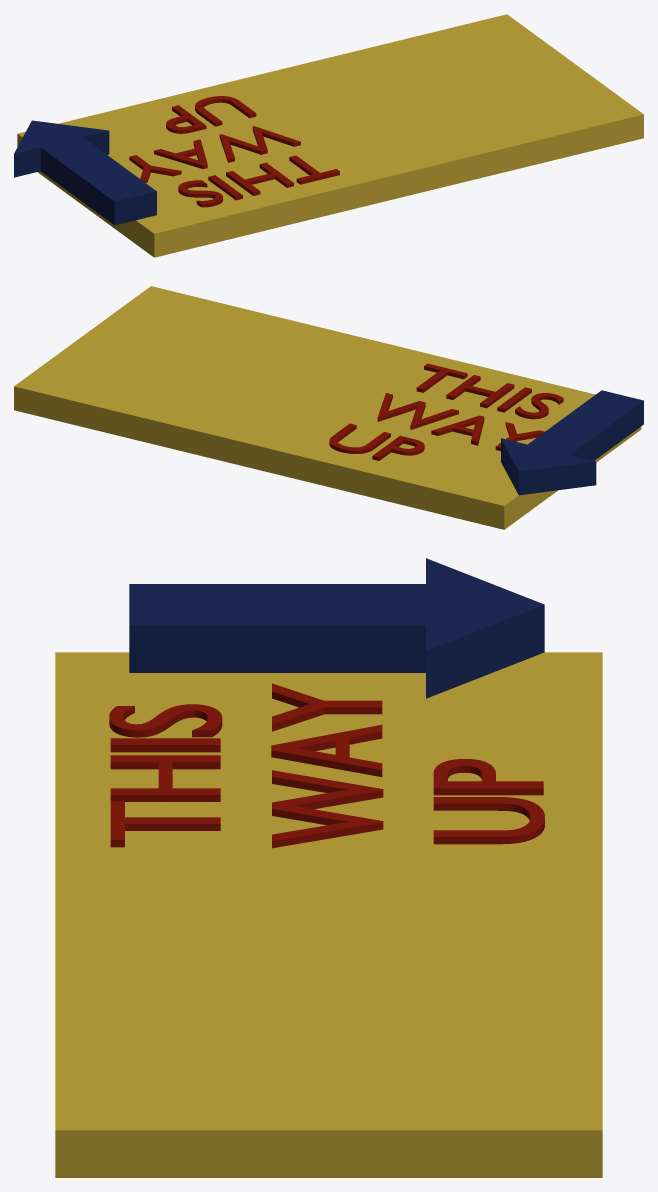
Rendered from rot_end.gltf.
3 renders of one model, top to bottom at view 1: azimuth 30°, elevation 25°; view 2: azimuth 150°, elevation 25°; view 3: azimuth 270°, elevation 25°, orthographic. The views are drawn at different scales.
Parts seen in each view (by area): view 1: rot.end; view 2: rot.end; view 3: rot.end.
Part boxes in pixels (bbox=[...]): rot.end: bbox=[14, 14, 643, 257]; rot.end: bbox=[14, 286, 643, 529]; rot.end: bbox=[55, 558, 602, 1177].
Bounding box in the file's own units: 15.85 × 1.34 × 6.99.
